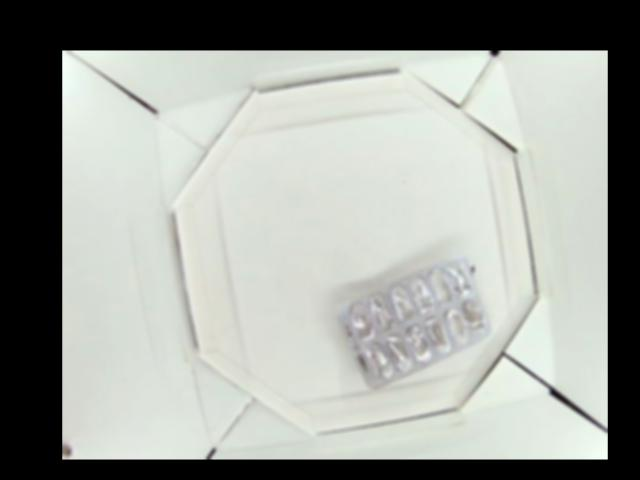Medicine: (333, 258, 491, 391)
